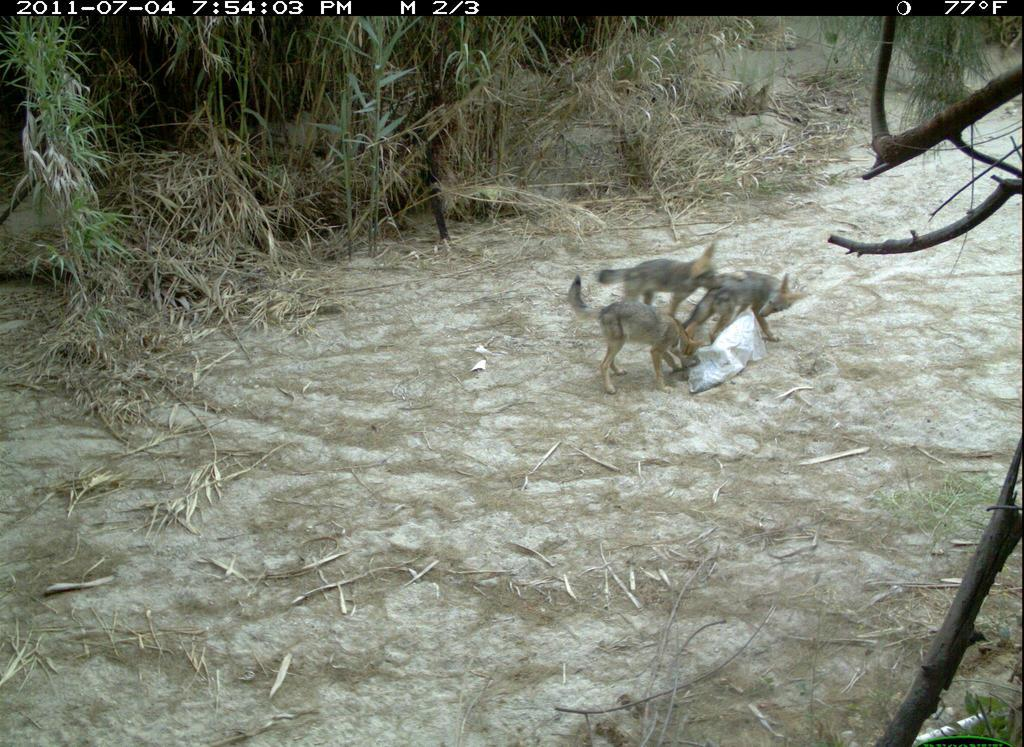coyote: (566, 236, 815, 393)
